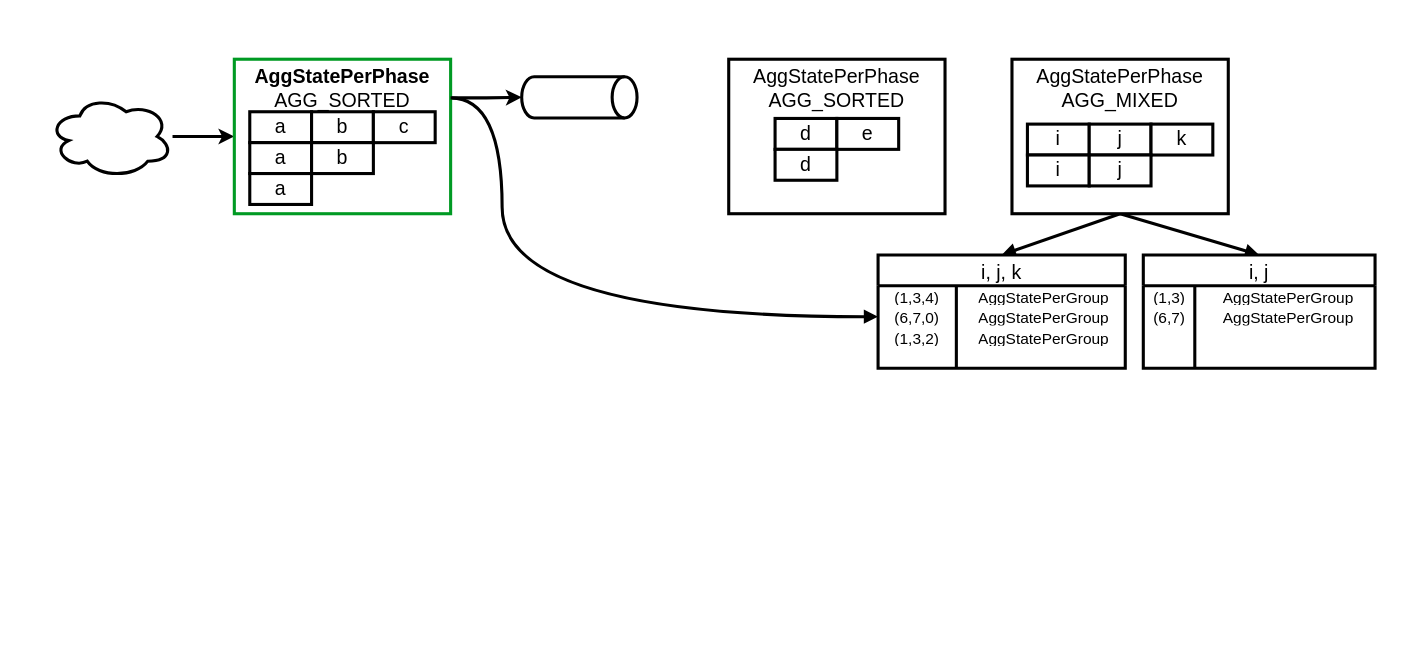
This 1415x663 diagram has some shape labels left out. Here are the shapes that lost their labels. From the top down, the centre of each, then its label:
the point at 579,97: sort_in
the point at 110,136: Вход
